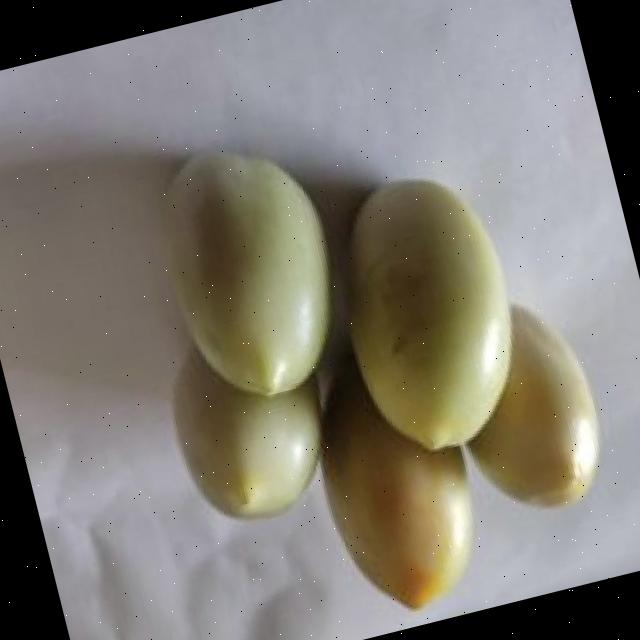tomato: (340, 179, 516, 444), (157, 143, 331, 396), (318, 356, 475, 609), (462, 305, 602, 511), (173, 341, 322, 518)
